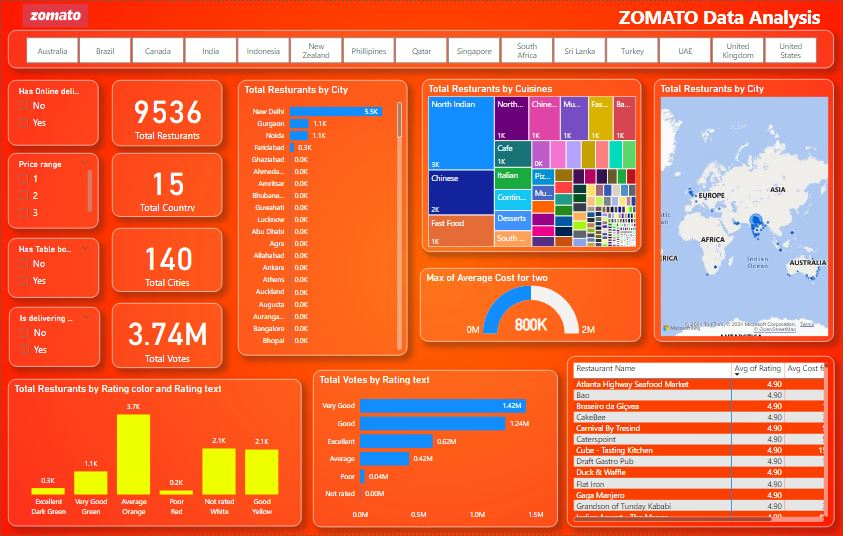

What the dashboard file says about the page in this screenshot:
{"tool":"powerbi","page":{"name":"Page 1","canvas":[1450,920],"ordinal":0},"visuals":[{"type":"slicer","fields":{"Values":["zomato.Country Names"]},"box":[11.9,50.8,1423.7,66.1],"z":0},{"type":"slicer","fields":{"Values":["zomato.Has Online delivery"]},"box":[12.5,135.4,156.2,112.5],"z":1000},{"type":"slicer","fields":{"Values":["zomato.Price range"]},"box":[12.4,262.1,155.9,129.7],"z":2000},{"type":"slicer","fields":{"Values":["zomato.Has Table booking"]},"box":[11.5,408.2,157.4,103.3],"z":3000},{"type":"slicer","fields":{"Values":["zomato.Is delivering now"]},"box":[13.1,527.9,157.4,103.3],"z":4000},{"type":"card","fields":{"Values":["zomato.Total Resturants"]},"box":[191.5,135.6,189.8,113.6],"z":5000},{"type":"card","fields":{"Values":["zomato.Total Country"]},"box":[191.5,262.7,189.8,110.2],"z":6000},{"type":"card","fields":{"Values":["zomato.Total Cities"]},"box":[191.5,391.5,189.8,110.2],"z":7000},{"type":"card","fields":{"Values":["Sum(zomato.Votes)"]},"box":[191.5,520.3,189.8,111.9],"z":8000},{"type":"clusteredBarChart","fields":{"Category":["zomato.City"],"Y":["zomato.Total Resturants"]},"box":[408.5,135.6,291.5,474.6],"z":9000},{"type":"treemap","fields":{"Group":["zomato.Cuisines"],"Values":["zomato.Total Resturants"]},"box":[725.7,135.2,378,298],"z":10000},{"type":"map","fields":{"Category":["zomato.City"],"Size":["zomato.Total Resturants"]},"box":[1125.8,135.2,310.4,452.5],"z":11000},{"type":"pivotTable","fields":{"Values":["Avg(zomato.Aggregate rating)","Avg(zomato.Average Cost for two)"],"Rows":["zomato.Restaurant Name"]},"box":[976.3,611.9,461,294.9],"z":12000},{"type":"columnChart","fields":{"Category":["zomato.Rating color","zomato.Rating text"],"Y":["zomato.Total Resturants"]},"box":[12.5,652.1,506.2,254.2],"z":13000},{"type":"barChart","title":"Total Votes by Rating text","fields":{"Y":["Sum(zomato.Votes)"],"Category":["zomato.Rating text"]},"box":[537.3,635.6,422,271.2],"z":14000},{"type":"gauge","fields":{"Y":["Max(zomato.Average Cost for two)"]},"box":[722.9,460.8,380.8,126.9],"z":15000},{"type":"textbox","box":[1042.1,0,395,64.2],"z":16000},{"type":"image","box":[0,0,186.2,50],"z":17000}]}

Visuals, with their boxes in screenshot pixels (x1, y1, x2, y2), scaled from the page's 1450x920 canvas onto the 843x536 screenshot:
slicer - zomato.Country Names: (x1=7, y1=30, x2=835, y2=68)
slicer - zomato.Has Online delivery: (x1=7, y1=79, x2=98, y2=144)
slicer - zomato.Price range: (x1=7, y1=153, x2=98, y2=228)
slicer - zomato.Has Table booking: (x1=7, y1=238, x2=98, y2=298)
slicer - zomato.Is delivering now: (x1=8, y1=308, x2=99, y2=368)
card - zomato.Total Resturants: (x1=111, y1=79, x2=222, y2=145)
card - zomato.Total Country: (x1=111, y1=153, x2=222, y2=217)
card - zomato.Total Cities: (x1=111, y1=228, x2=222, y2=292)
card - Sum(zomato.Votes): (x1=111, y1=303, x2=222, y2=368)
clusteredBarChart - zomato.City x zomato.Total Resturants: (x1=237, y1=79, x2=407, y2=356)
treemap - zomato.Cuisines x zomato.Total Resturants: (x1=422, y1=79, x2=642, y2=252)
map - zomato.City x zomato.Total Resturants: (x1=655, y1=79, x2=835, y2=342)
pivotTable - Avg(zomato.Aggregate rating) x Avg(zomato.Average Cost for two): (x1=568, y1=356, x2=836, y2=528)
columnChart - zomato.Rating color x zomato.Rating text: (x1=7, y1=380, x2=302, y2=528)
"Total Votes by Rating text" barChart: (x1=312, y1=370, x2=558, y2=528)
gauge - Max(zomato.Average Cost for two): (x1=420, y1=268, x2=642, y2=342)
textbox: (x1=606, y1=0, x2=836, y2=37)
image: (x1=0, y1=0, x2=108, y2=29)
